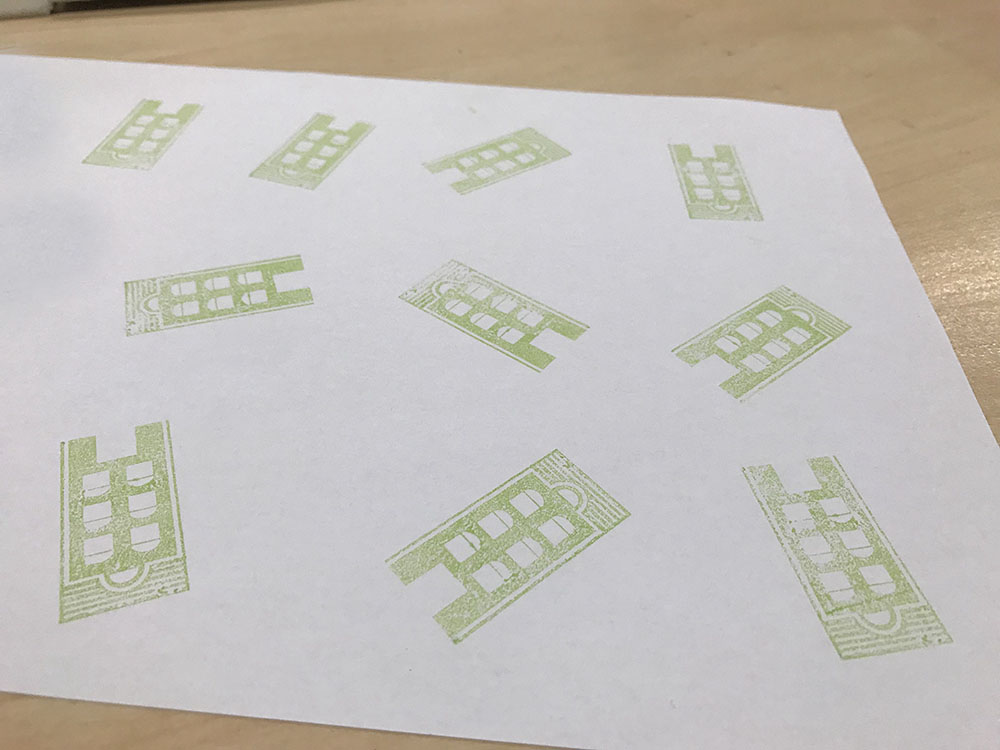build: (376, 434, 640, 669), (719, 442, 973, 671), (44, 406, 210, 634), (640, 266, 873, 420), (386, 244, 605, 387), (93, 236, 343, 355), (408, 108, 586, 220), (645, 117, 788, 252), (230, 97, 391, 205), (58, 82, 216, 189)
